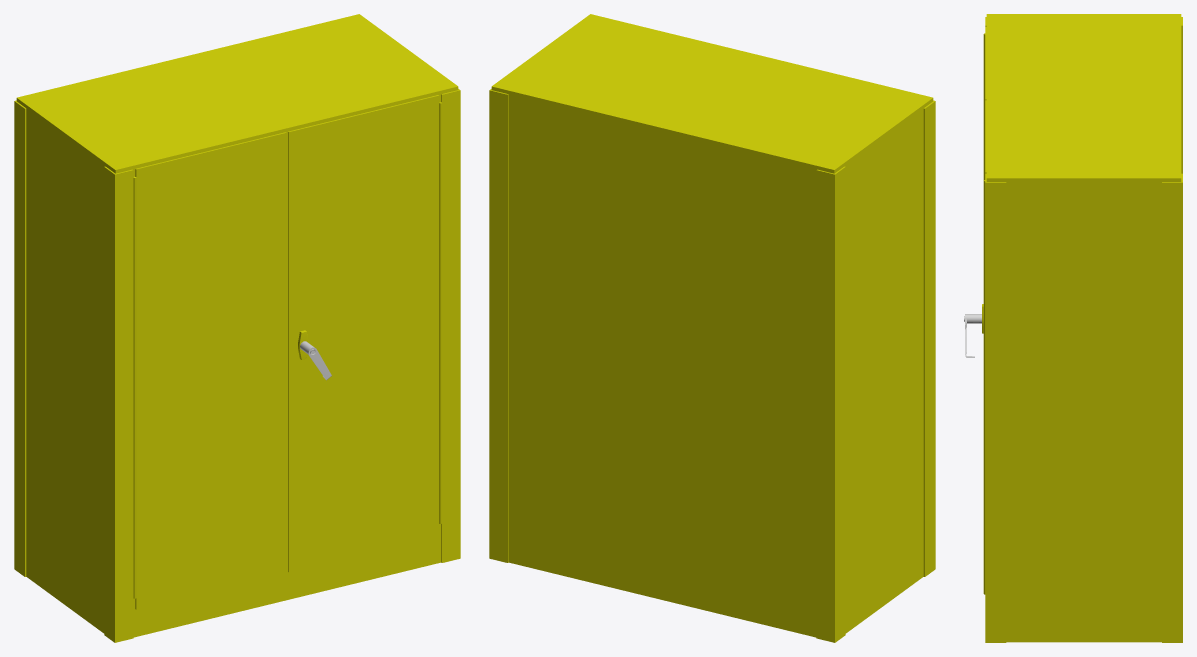
The model's file is FlammableMaterialsCabinet.fbx.
The picture shows the model from 3 angles, left to right: view 1: azimuth 30°, elevation 25°; view 2: azimuth 150°, elevation 25°; view 3: azimuth 270°, elevation 25°; orthographic projection.
Visible parts, largest first — view 1: Flammable_Materials_Cabinet; view 2: Flammable_Materials_Cabinet; view 3: Flammable_Materials_Cabinet.
Boxes of the visible parts, x1,y1,x2,y2 form: Flammable_Materials_Cabinet: [14, 14, 460, 642]; Flammable_Materials_Cabinet: [489, 14, 935, 642]; Flammable_Materials_Cabinet: [964, 14, 1182, 642].
Bounding box in the file's own units: 4.03 × 5.26 × 2.25.
